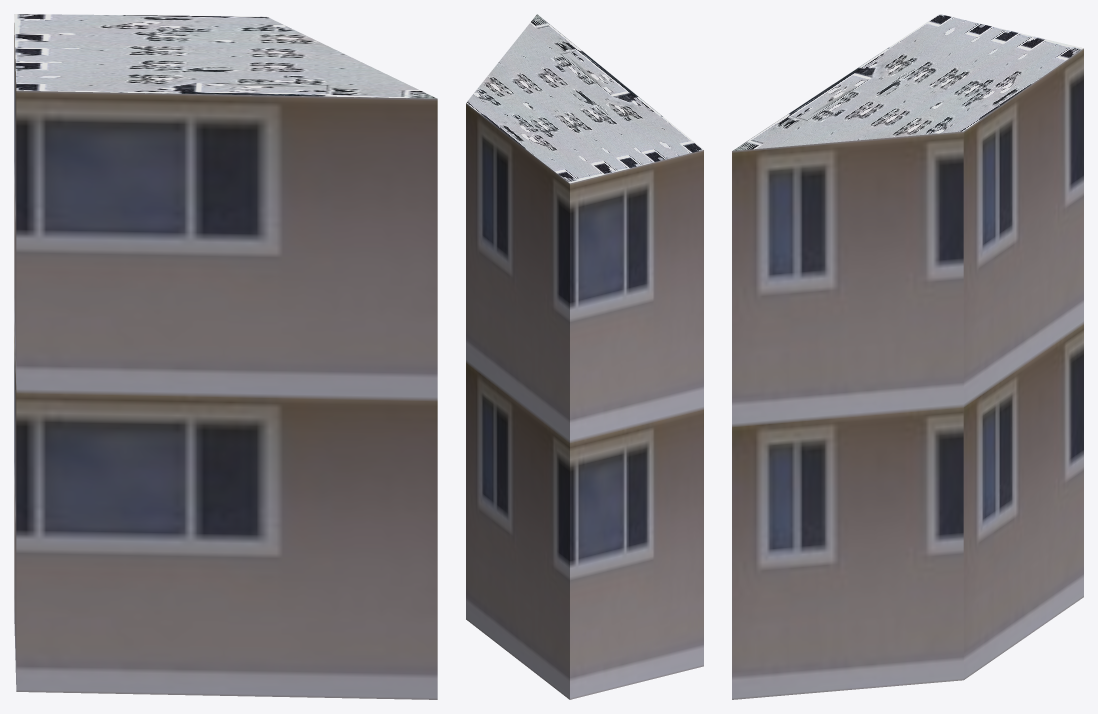
File: ResTex__724.fbx
3 views of the same model, side by side, from view 1: azimuth 30°, elevation 25°; view 2: azimuth 150°, elevation 25°; view 3: azimuth 270°, elevation 25° (orthographic). The views are drawn at different scales.
Parts seen in each view (by area): view 1: CityEngineMaterial_21_m, CityEngineMaterial_m; view 2: CityEngineMaterial_21_m, CityEngineMaterial_m; view 3: CityEngineMaterial_21_m, CityEngineMaterial_m.
Part boxes in pixels (bbox=[...]): CityEngineMaterial_21_m: bbox=[14, 23, 437, 699]; CityEngineMaterial_m: bbox=[14, 14, 436, 98]; CityEngineMaterial_21_m: bbox=[466, 103, 703, 699]; CityEngineMaterial_m: bbox=[466, 14, 703, 183]; CityEngineMaterial_21_m: bbox=[732, 48, 1083, 699]; CityEngineMaterial_m: bbox=[732, 14, 1083, 150].
Size of the model in its own units: 3.21 by 6 by 3.49.
Materials: 2 (2 with a texture image).
